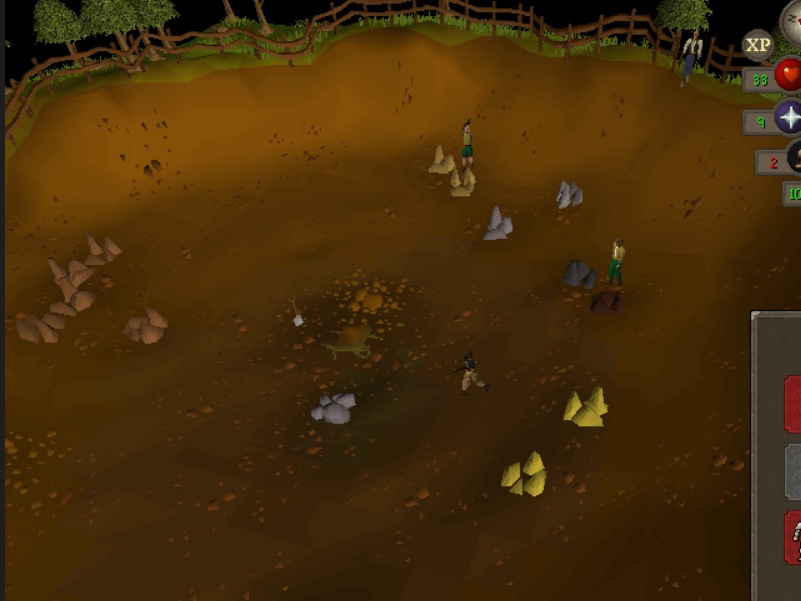clay: (429, 139, 458, 178), (447, 161, 476, 200)
copper: (117, 303, 177, 351), (15, 309, 69, 353), (44, 255, 104, 292), (50, 278, 100, 320), (79, 230, 129, 271)
gold: (500, 443, 554, 500), (559, 377, 613, 434)
iron: (585, 284, 638, 318)
tin: (480, 203, 520, 244), (549, 174, 589, 215)
